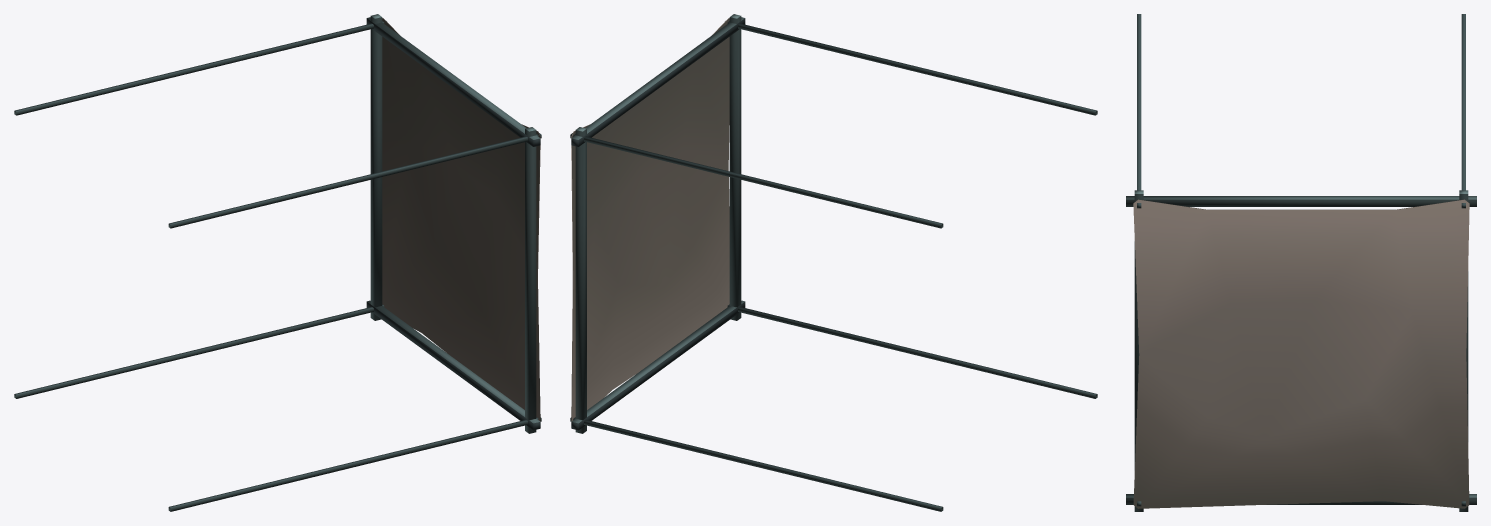
Rendered from Safety_Net_1C.fbx.
3 renders of one model, left to right at view 1: azimuth 30°, elevation 25°; view 2: azimuth 150°, elevation 25°; view 3: azimuth 270°, elevation 25°, orthographic. The views are drawn at different scales.
Parts seen in each view (by area): view 1: Safety_Net_1C; view 2: Safety_Net_1C; view 3: Safety_Net_1C.
Boxes of the visible parts, bbox=[...] form: Safety_Net_1C: bbox=[14, 14, 541, 511]; Safety_Net_1C: bbox=[570, 14, 1097, 511]; Safety_Net_1C: bbox=[1126, 14, 1476, 511].
Size of the model in its own units: 516 by 400 by 400.
